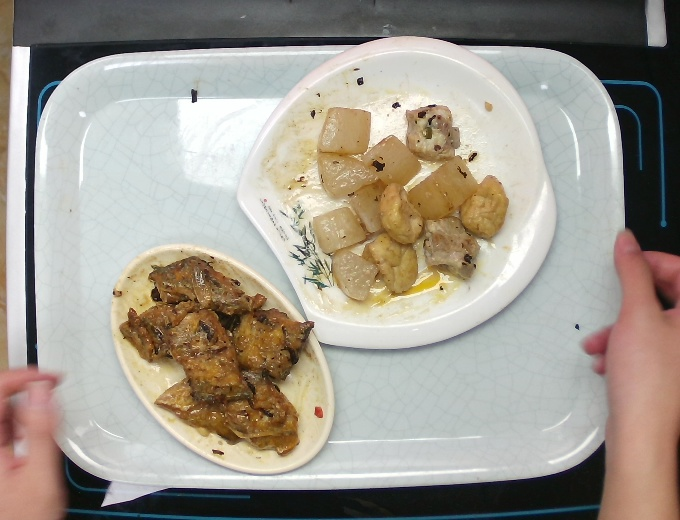JYsf-Mian_Pan: (239, 33, 568, 364)
JYsf-Tuo_Yuan_Wan: (100, 231, 339, 477)
